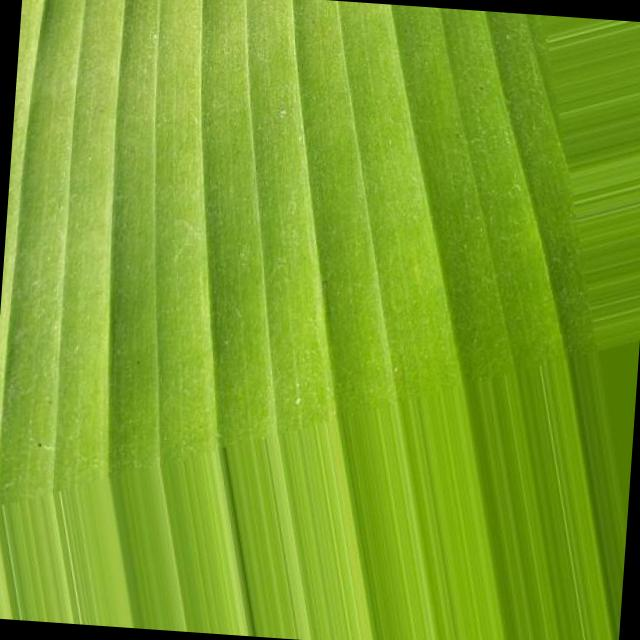Banana_Healthy: (88, 57, 500, 327)
